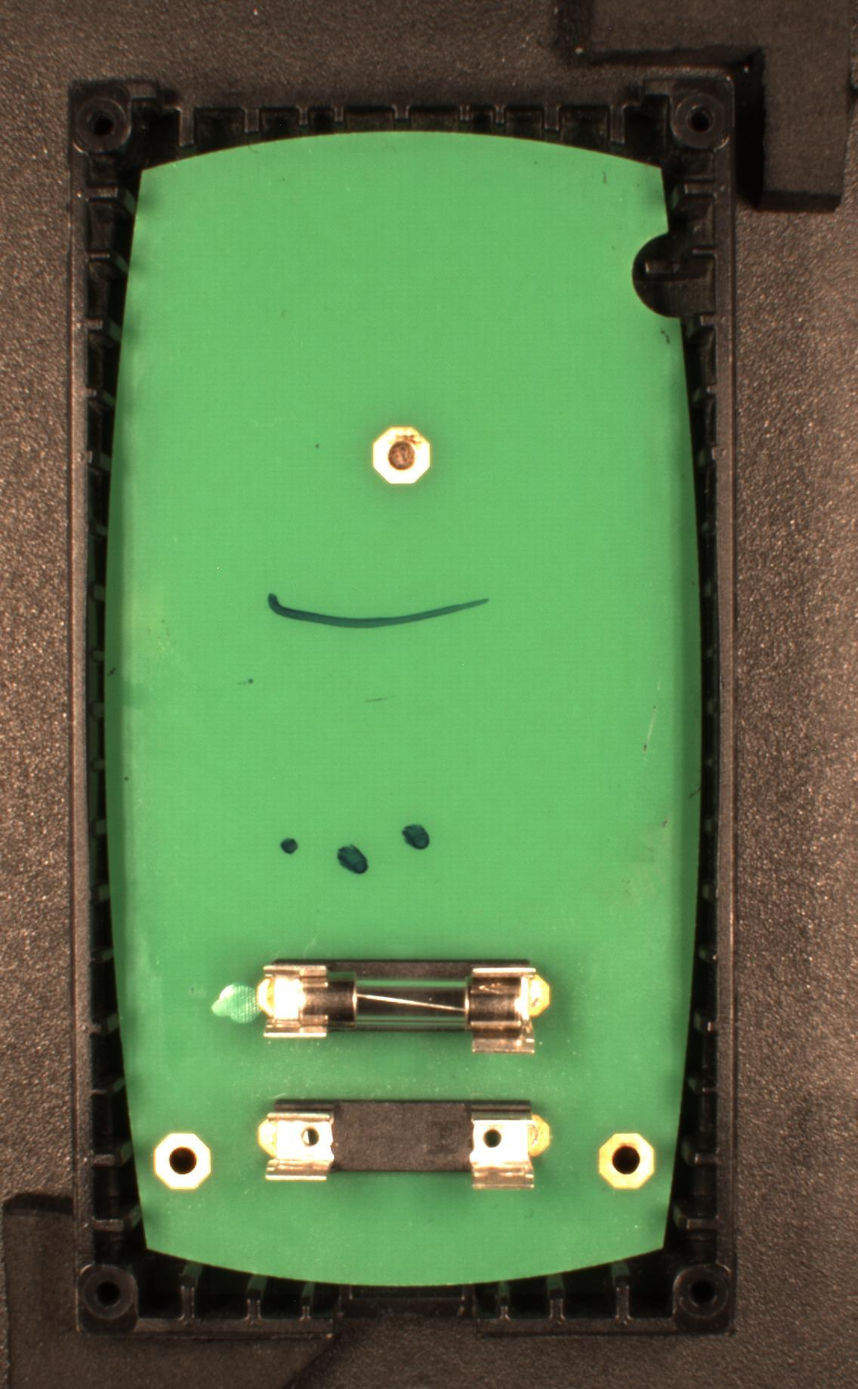Linijsko Ostecene: (265, 591, 490, 632)
Nepostojanje osiguraca: (256, 1097, 553, 1189)
Tockasto Ostecenje: (336, 843, 369, 876), (401, 821, 433, 852), (278, 838, 301, 856)
